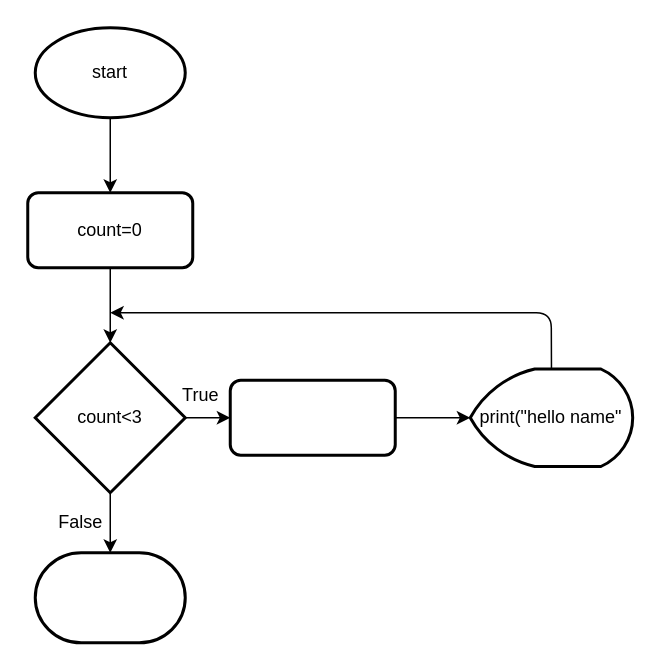
The diagram is 660 pixels wide and 669 high, and some of its shapes have lost their labels. Here are the shapes that lost their labels. From the top down, the centre of each, then its label:
At (312,417): "count=count+1".
At (109,597): "end".
